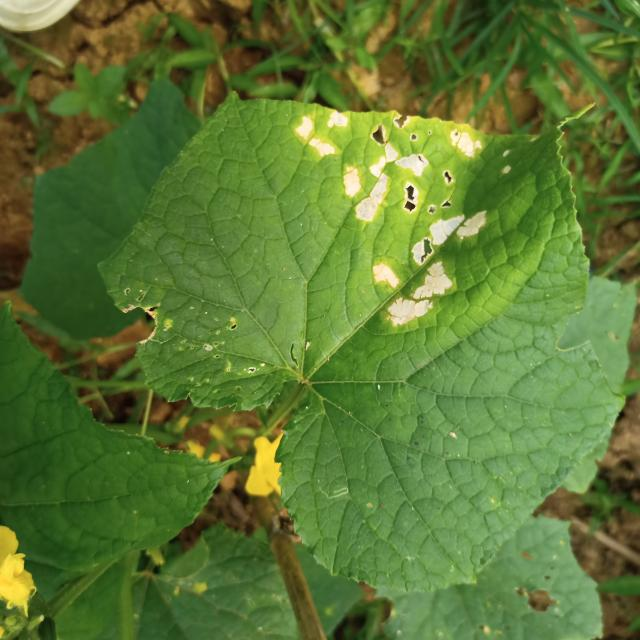disease_cucumber: (288, 101, 499, 334)
